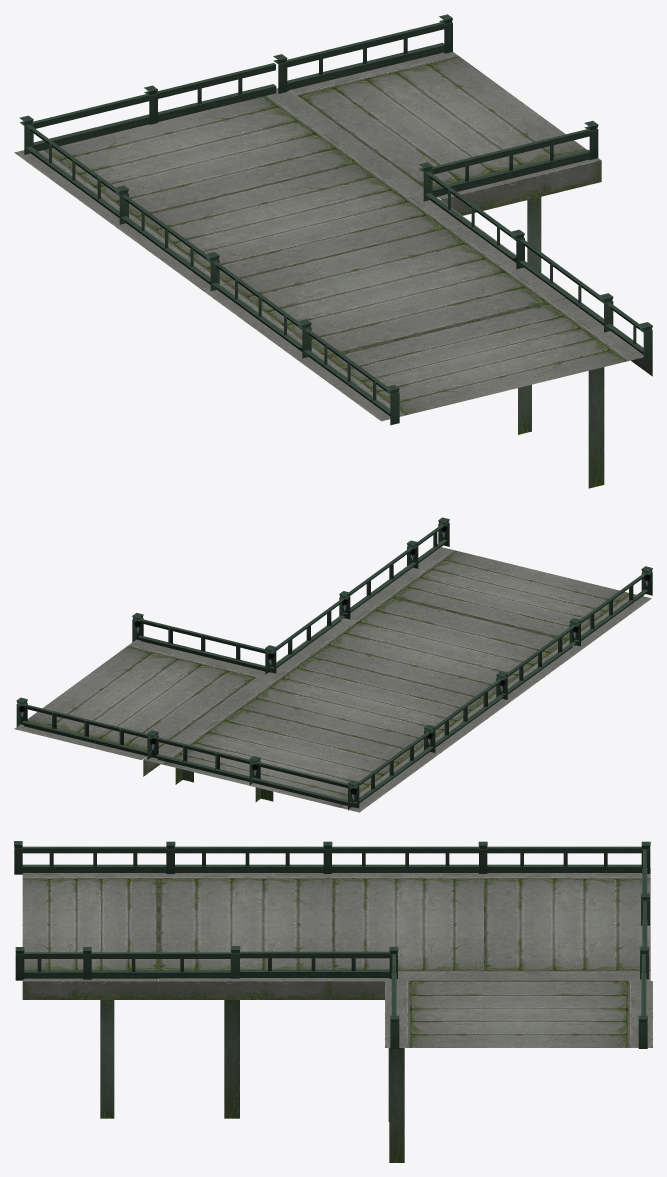
Rendered from yw_yanziwu_pinjieshiqiao01.FBX.
3 renders of one model, top to bottom at view 1: azimuth 30°, elevation 25°; view 2: azimuth 150°, elevation 25°; view 3: azimuth 270°, elevation 25°, orthographic. The views are drawn at different scales.
Parts seen in each view (by area): view 1: yw_yanziwu_pinjieshiqiao01; view 2: yw_yanziwu_pinjieshiqiao01; view 3: yw_yanziwu_pinjieshiqiao01.
Part boxes in pixels (x1=…): yw_yanziwu_pinjieshiqiao01: x1=14, y1=14, x2=652, y2=488; yw_yanziwu_pinjieshiqiao01: x1=14, y1=517, x2=652, y2=812; yw_yanziwu_pinjieshiqiao01: x1=14, y1=841, x2=652, y2=1162.
Bounding box in the file's own units: 685 × 297 × 1026.
